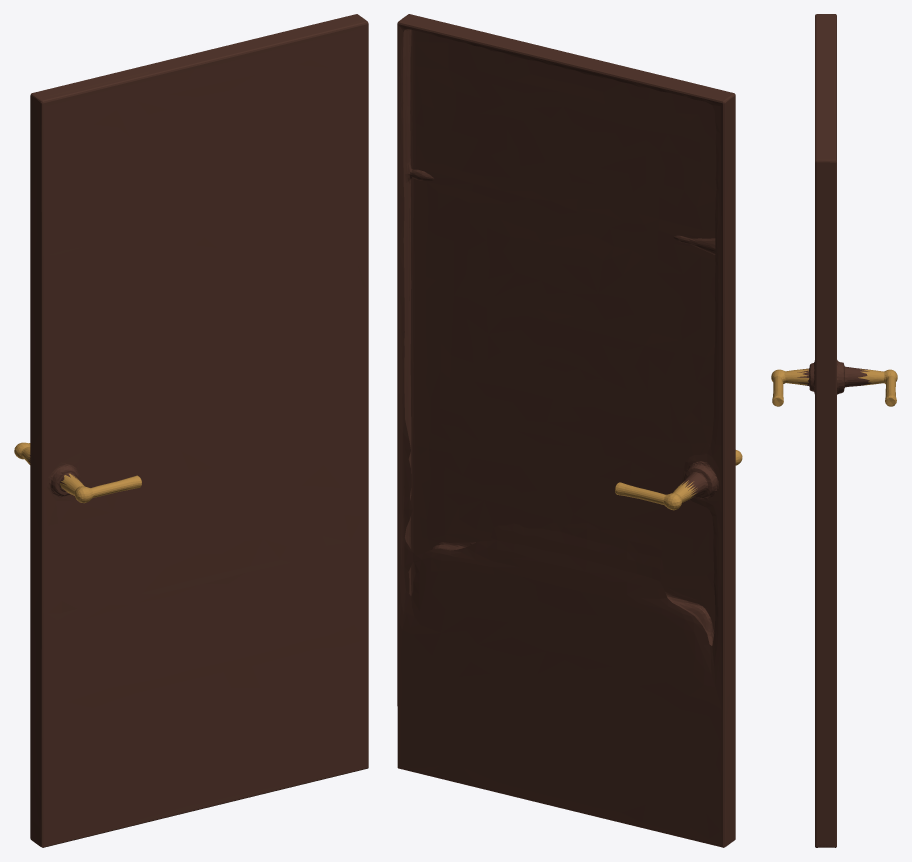
File: door_semantic.glb
3 renders of one model, left to right at view 1: azimuth 30°, elevation 25°; view 2: azimuth 150°, elevation 25°; view 3: azimuth 270°, elevation 25°, orthographic. The views are drawn at different scales.
Parts seen in each view (by area): view 1: RoomOne_Door; view 2: RoomOne_Door; view 3: RoomOne_Door.
Part boxes in pixels (x1,y1,x2,y2): RoomOne_Door: (14,14,368,847); RoomOne_Door: (397,14,742,847); RoomOne_Door: (771,14,897,847).
Size of the model in its own units: 0.9416 by 2.05 by 0.3421.
